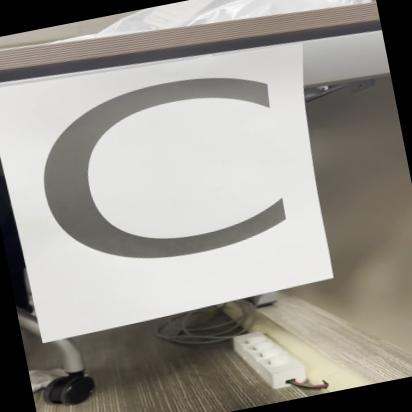seat: (0, 23, 335, 336)
